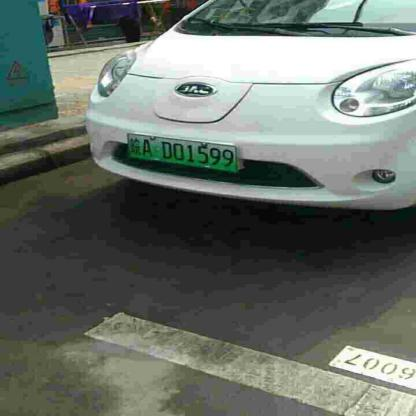lp: (125, 134, 237, 172)
